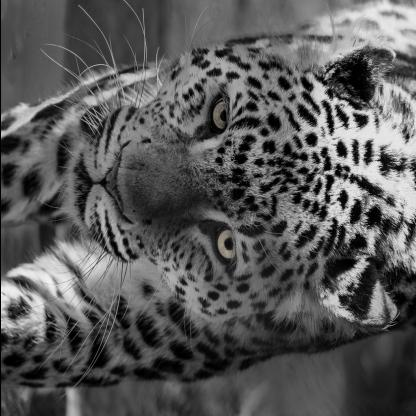leopard: (71, 38, 393, 338)
